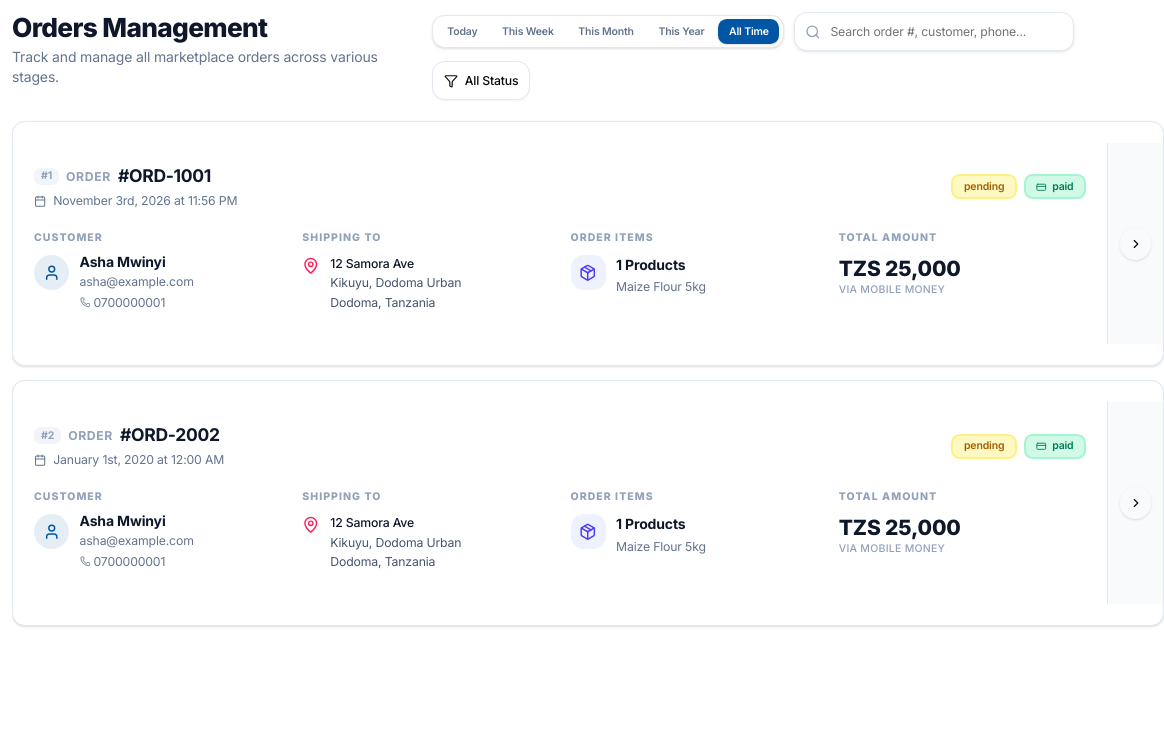
Test: OrdersManagementTab › filters out orders created before the selected date range
This screenshot has width=1164, height=732.
Click the button "Today". click: x=462, y=32
box: [437,19,488,44]
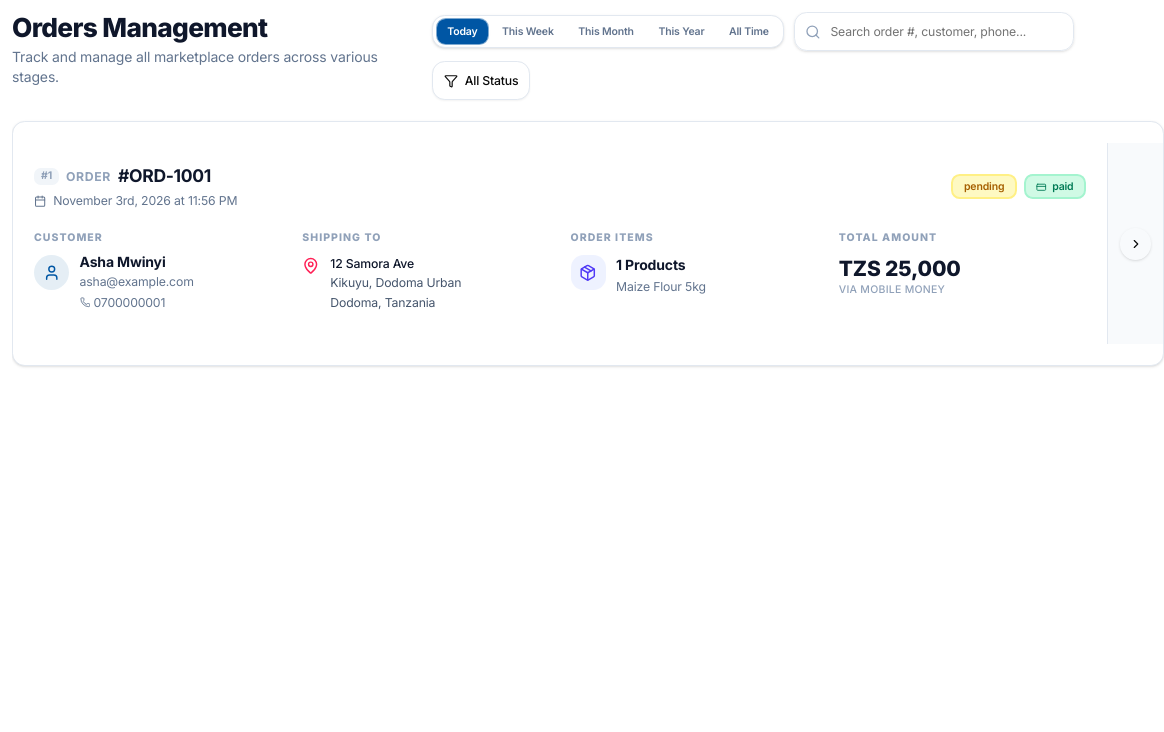
Expected: the heading "#ORD-1001" is shown, [118,164,211,189]
Expected: the heading "#ORD-2002" is gone
